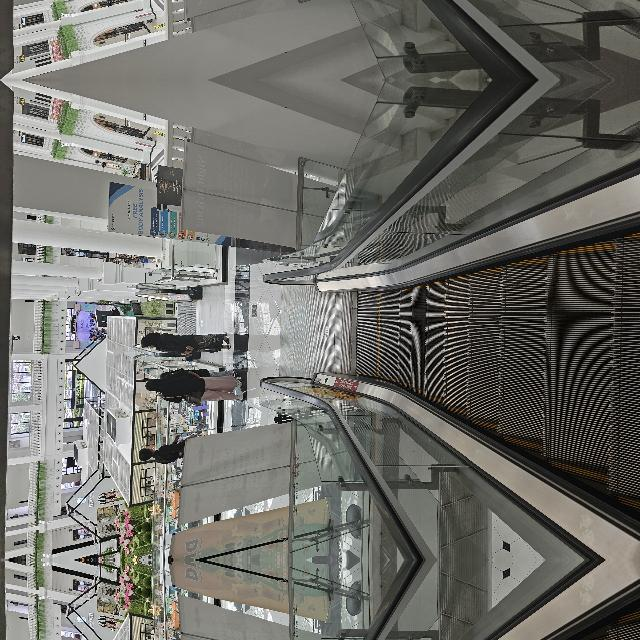person: (156, 224, 190, 324), (205, 222, 227, 310), (180, 239, 192, 317)
stair: (105, 369, 334, 640), (105, 401, 334, 640)
